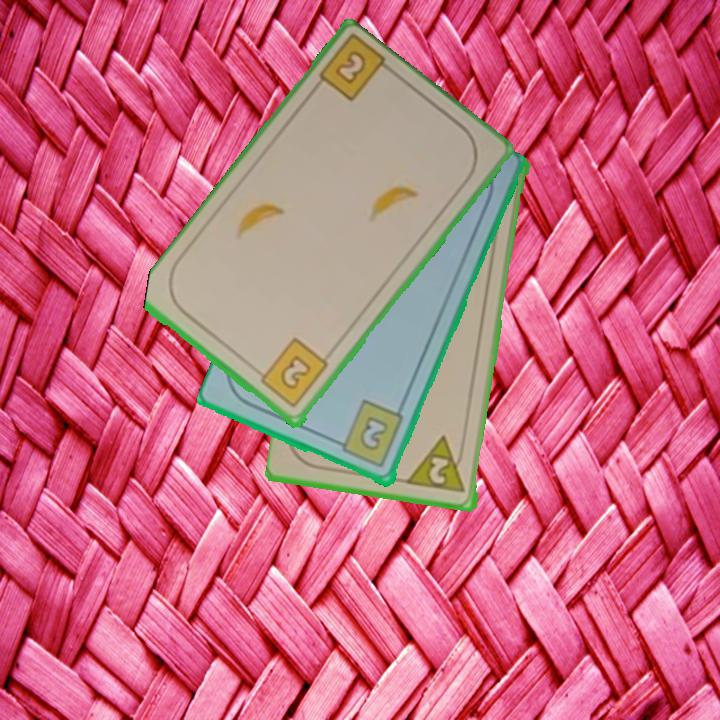2b: (251, 335, 331, 411), (331, 397, 407, 471), (331, 47, 370, 88)
2p: (406, 433, 469, 496)
